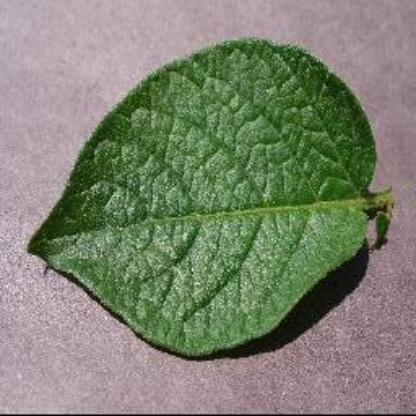Healthy-plant: (20, 31, 396, 365)
